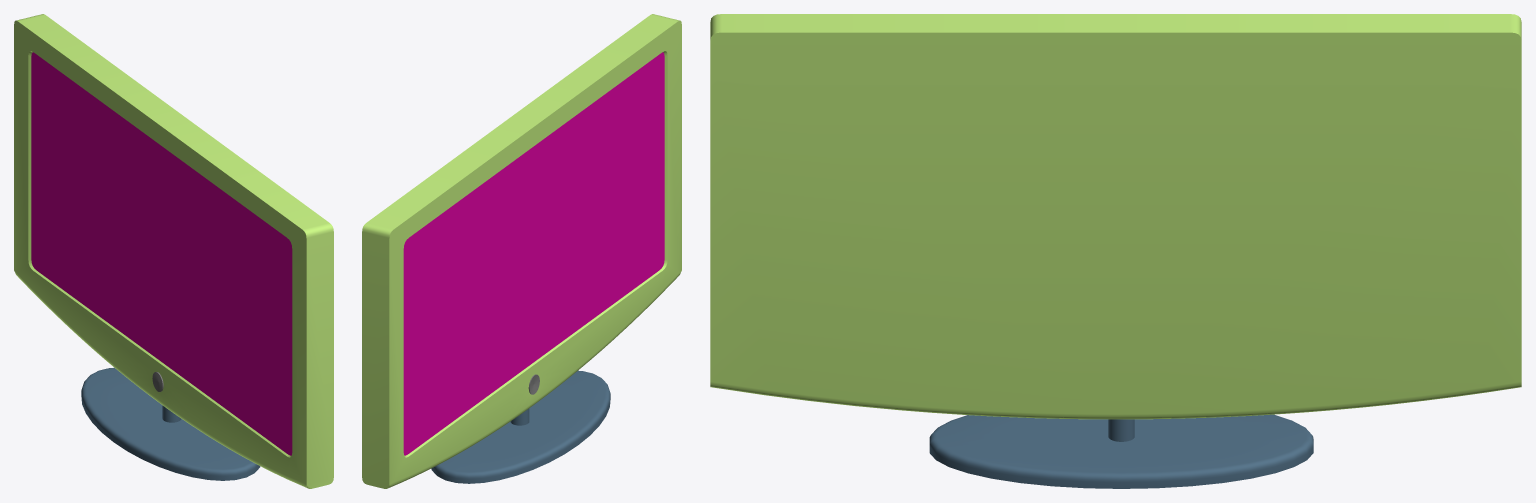
The picture shows the model from 3 angles, left to right: view 1: azimuth 30°, elevation 25°; view 2: azimuth 150°, elevation 25°; view 3: azimuth 270°, elevation 25°; orthographic projection. The views are drawn at different scales.
Visible parts, largest first — view 1: Cylinder001; view 2: Cylinder001; view 3: Cylinder001.
Boxes of the visible parts, bbox=[...] form: Cylinder001: bbox=[14, 14, 333, 488]; Cylinder001: bbox=[362, 14, 681, 488]; Cylinder001: bbox=[710, 14, 1521, 488].
Bounding box in the file's own units: 29.82 × 75.11 × 130.
